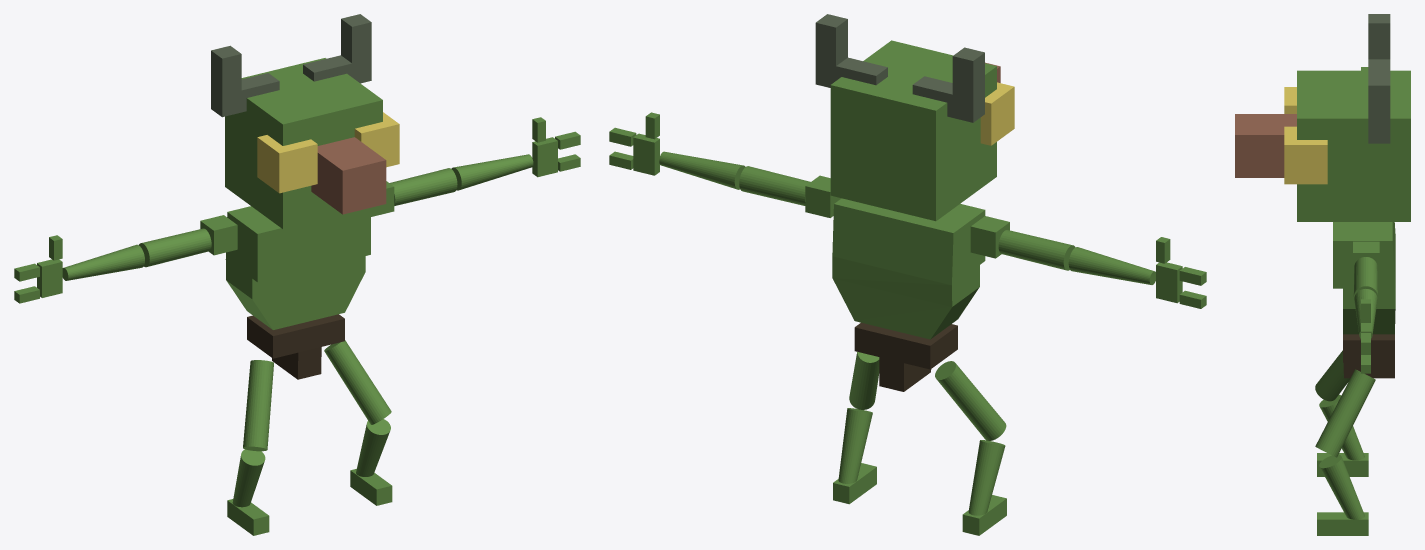
3 views of the same model, side by side, from view 1: azimuth 30°, elevation 25°; view 2: azimuth 150°, elevation 25°; view 3: azimuth 270°, elevation 25° (orthographic). The views are drawn at different scales.
Parts seen in each view (by area): view 1: goblin; view 2: goblin; view 3: goblin.
Part boxes in pixels (x1,y1,x2,y2): goblin: (14,14,580,535); goblin: (609,14,1206,535); goblin: (1235,14,1410,535).
Size of the model in its own units: 11.2 by 3.09 by 8.77.
